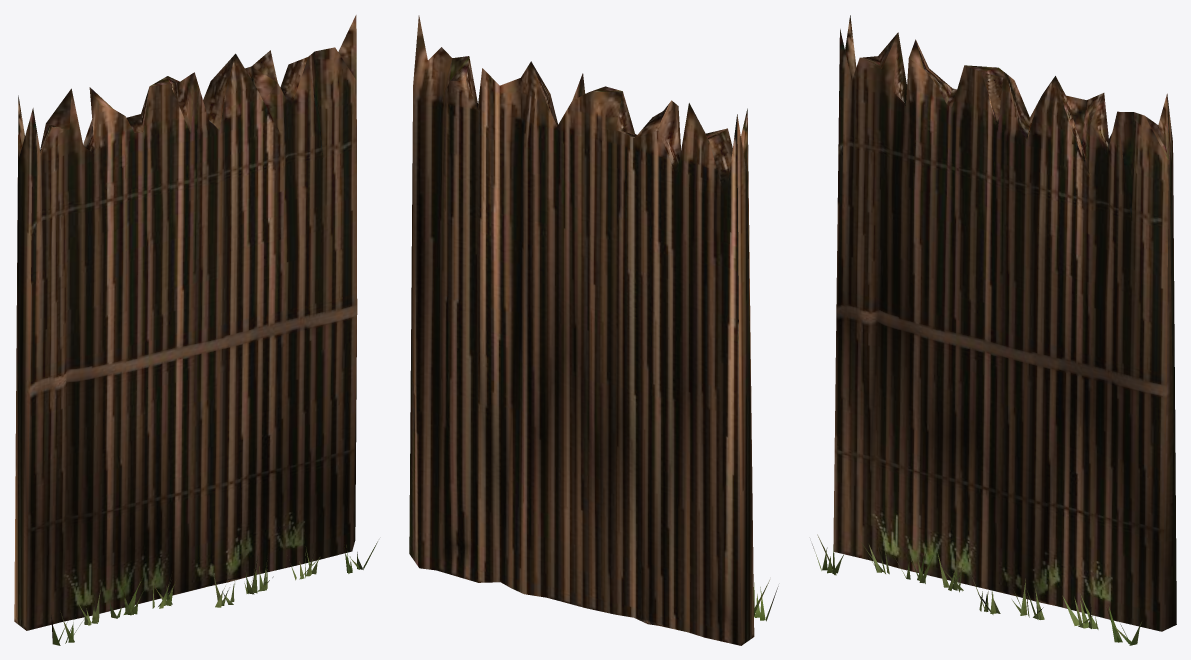
Rendered from fence_reed_far.glb.
3 views of the same model, side by side, from view 1: azimuth 30°, elevation 25°; view 2: azimuth 150°, elevation 25°; view 3: azimuth 330°, elevation 25° (orthographic).
Visible parts, largest first — view 1: fence_reed_lod1; view 2: fence_reed_lod1; view 3: fence_reed_lod1.
Part boxes in pixels (<box>): fence_reed_lod1: <box>14,15,377,645</box>; fence_reed_lod1: <box>409,15,778,645</box>; fence_reed_lod1: <box>812,15,1176,645</box>.
Bounding box in the file's own units: 0.9887 × 1.51 × 0.2061.
Materials: 1 (1 with a texture image).
